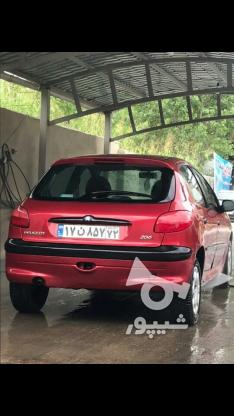car: (55, 224, 122, 240)
